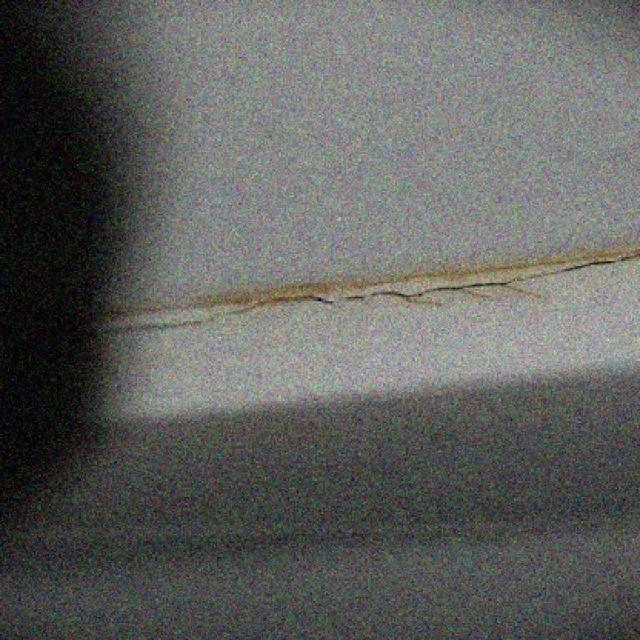crack: (346, 280, 511, 303), (223, 296, 334, 315), (107, 317, 209, 337), (553, 257, 640, 274)
